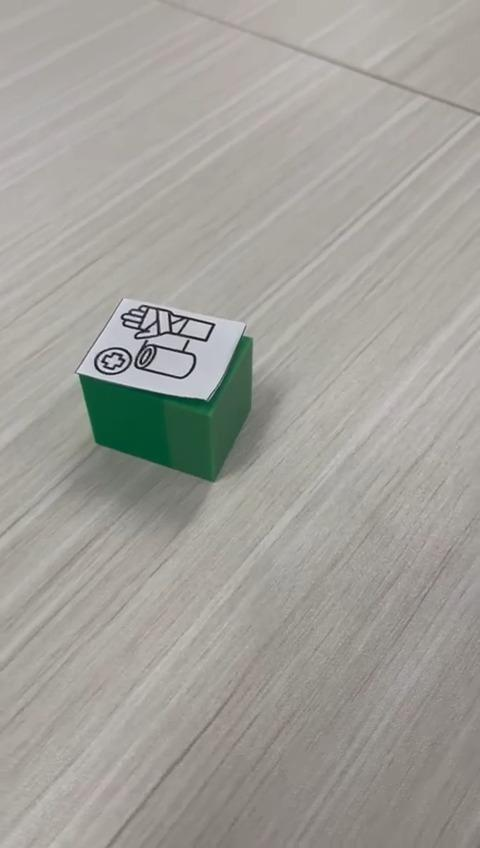Bandages: (74, 298, 253, 483)
